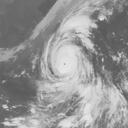cyclone: (43, 30, 93, 87)
